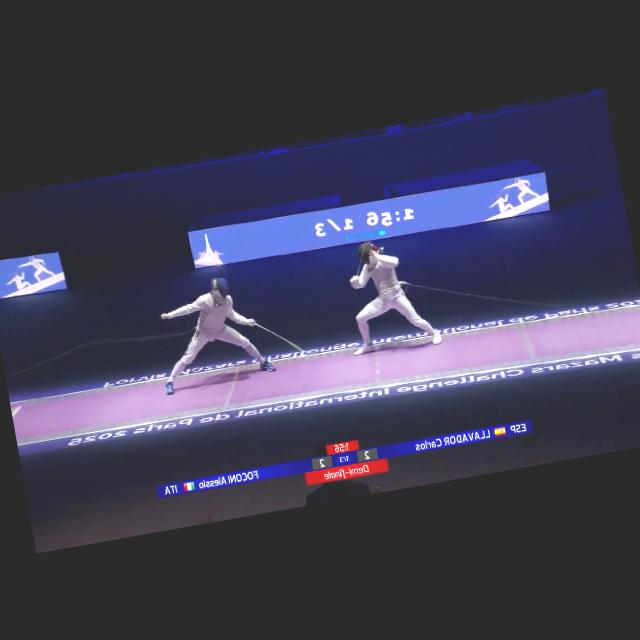blade: (248, 310, 306, 364), (342, 230, 379, 280)
